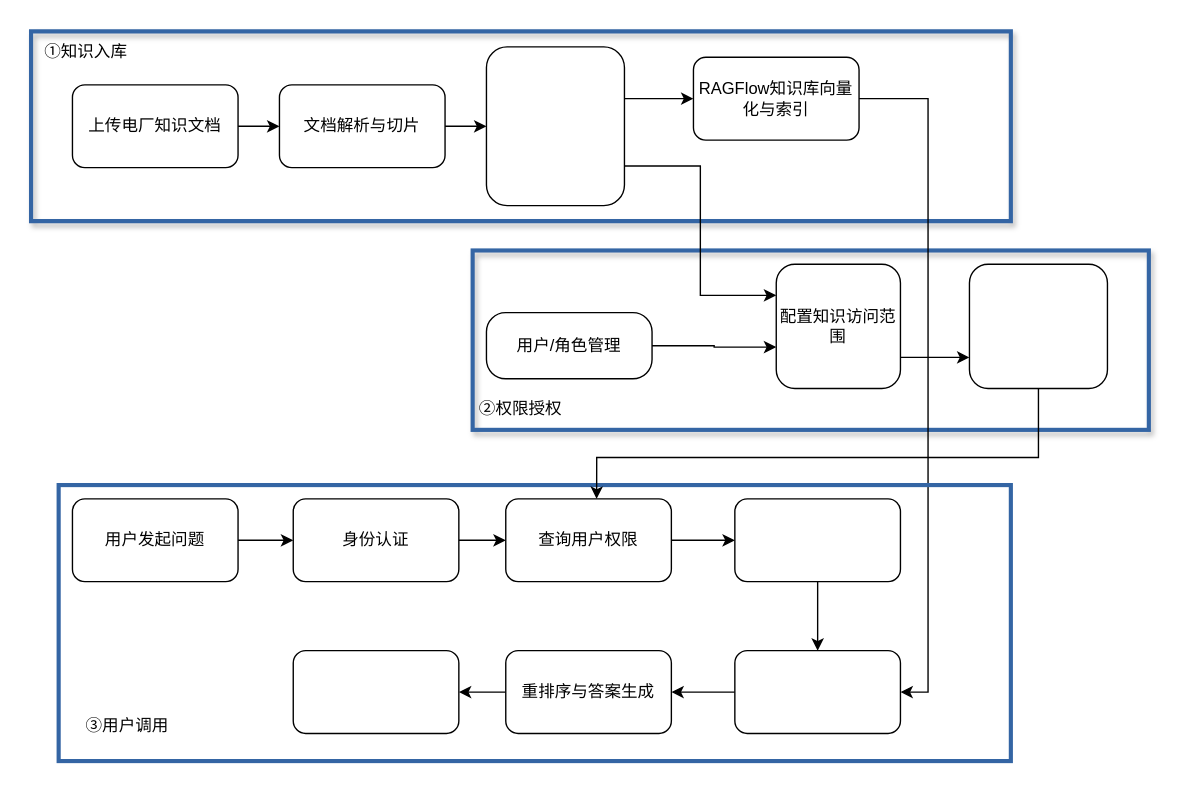
The diagram is 1183 pixels wide and 787 high, and some of its shapes have lost their labels. The shapes that lost their labels are listed below. From the top down, each one's centre as x and y in pixels, then its label:
At pixel 554 126: "添加业务元数据 电厂/机组/专业/设备".
At pixel 1037 325: "建立用户与知识权限映射".
At pixel 816 539: "生成元数据过滤条件".
At pixel 375 691: "返回答案及知识引用".
At pixel 816 691: "RAGFlow检索授权范围内的知识".
